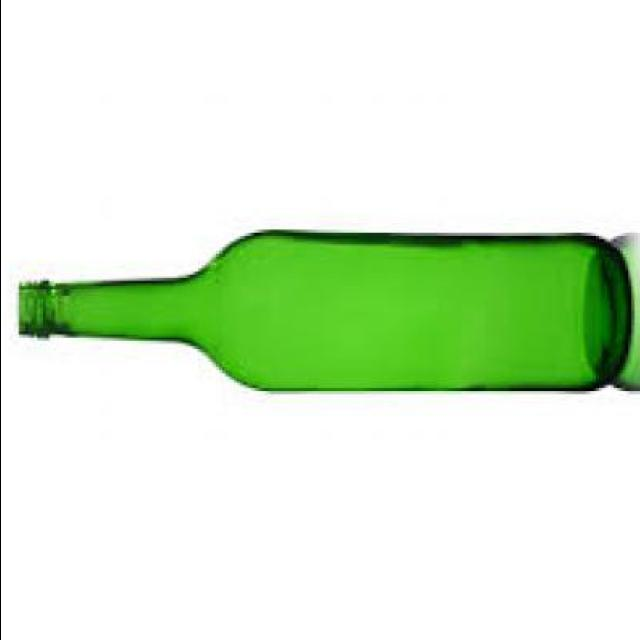kaca: (16, 226, 628, 391)
